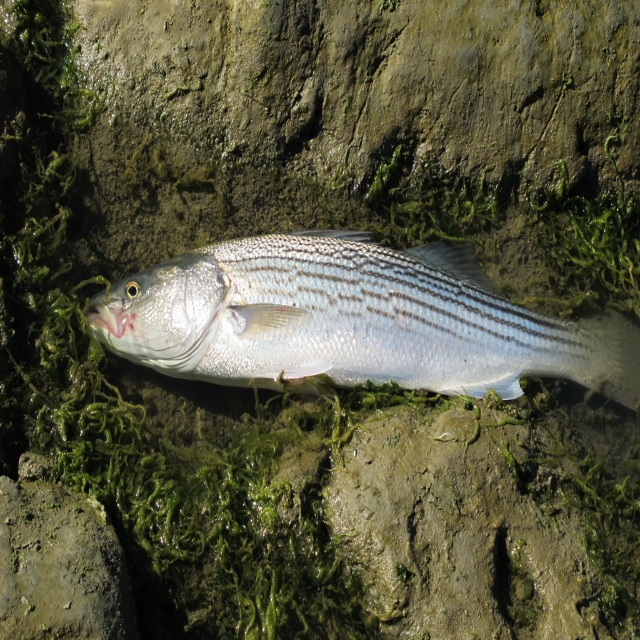Fish: (88, 229, 640, 413)
